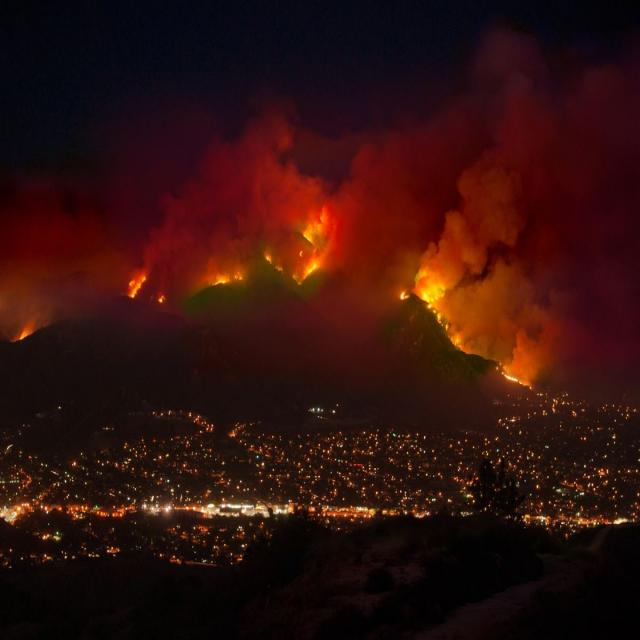fire: (255, 204, 340, 286), (396, 262, 469, 344), (111, 259, 158, 304), (0, 308, 41, 353), (201, 262, 240, 302), (489, 362, 534, 384), (150, 289, 176, 316)
